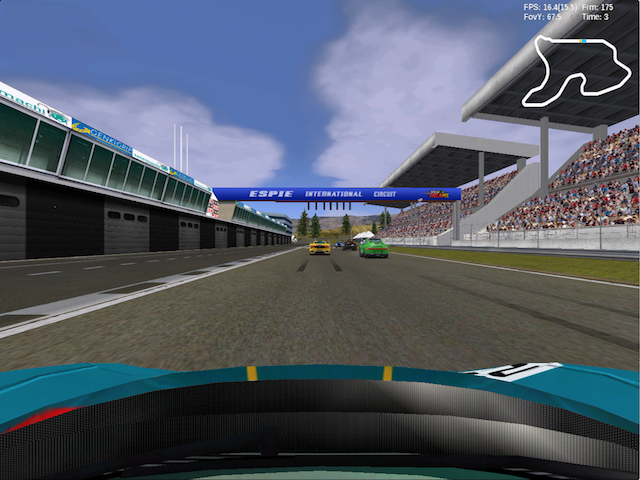Boxer96: (359, 239, 390, 258)
Cavallo360: (309, 241, 331, 255)
Spirit300: (344, 242, 357, 252)
